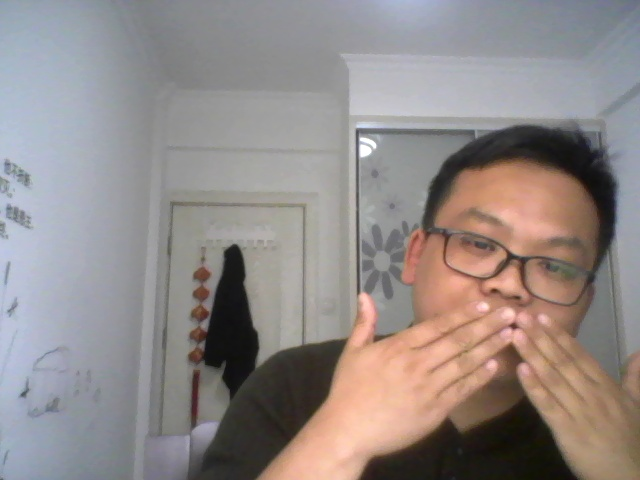Thank You: (323, 276, 640, 479)
